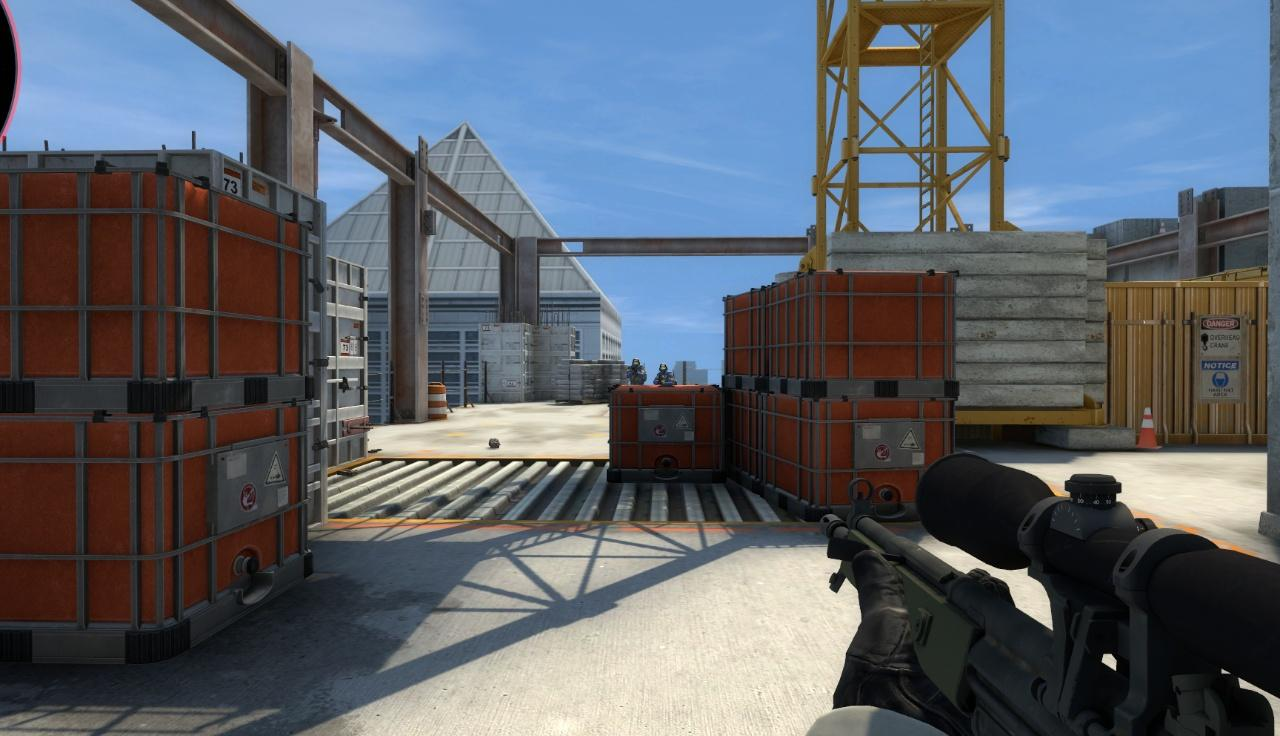ct: (627, 357, 646, 385), (656, 362, 676, 385)
cthead: (659, 364, 667, 373), (632, 358, 639, 368)
sniper: (815, 459, 1280, 736)
